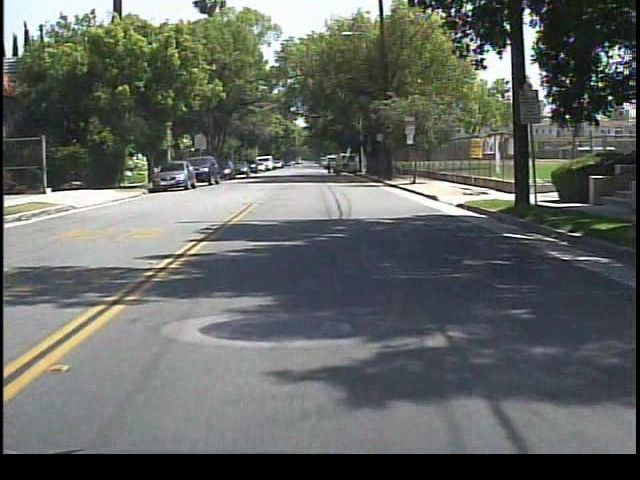person: (322, 155, 337, 180)
